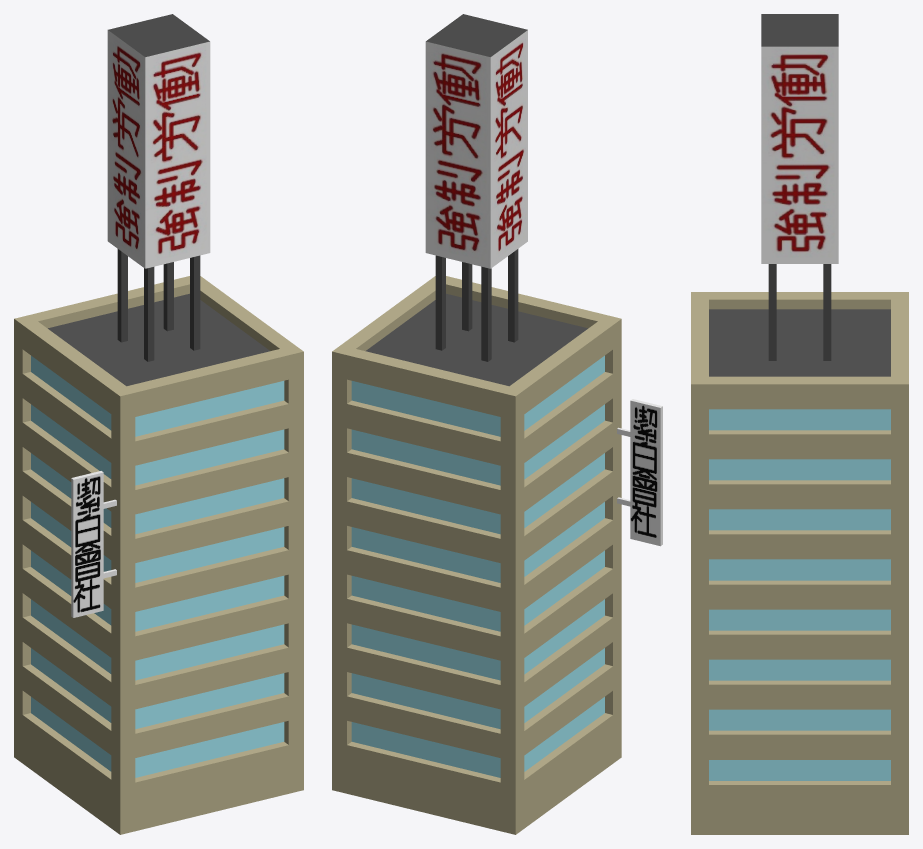
Rendered from build2.fbx.
The picture shows the model from 3 angles, left to right: view 1: azimuth 30°, elevation 25°; view 2: azimuth 150°, elevation 25°; view 3: azimuth 270°, elevation 25°; orthographic projection. The views are drawn at different scales.
Visible parts, largest first — view 1: build2, sign; view 2: build2, sign; view 3: build2, sign.
Part boxes in pixels (x1,y1,x2,y2): build2: (14, 276, 303, 834); sign: (107, 14, 210, 361); build2: (332, 276, 662, 834); sign: (425, 14, 527, 361); build2: (691, 292, 908, 834); sign: (761, 14, 838, 360).
Bounding box in the file's own units: 361 × 447 × 1386.
